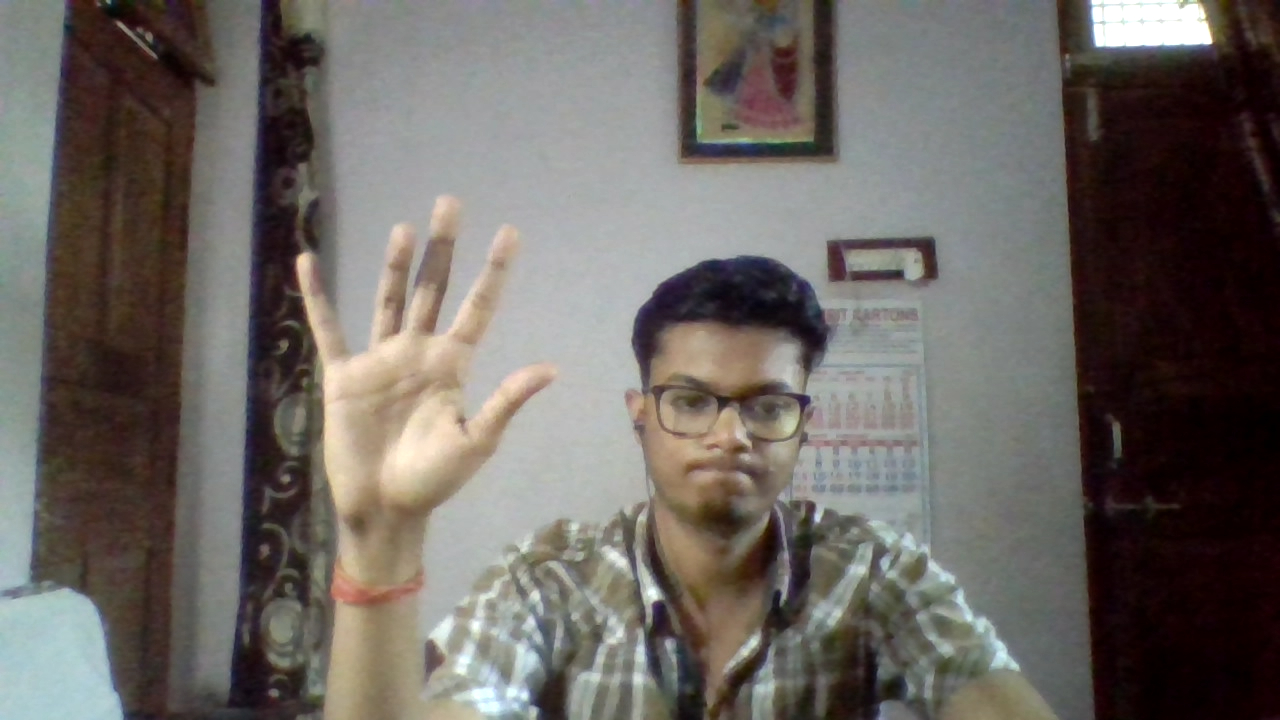five: (264, 188, 567, 512)
